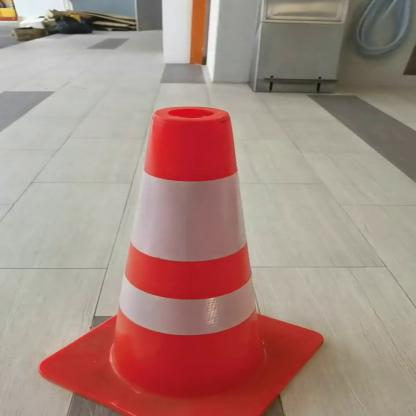cone: (26, 101, 333, 416)
